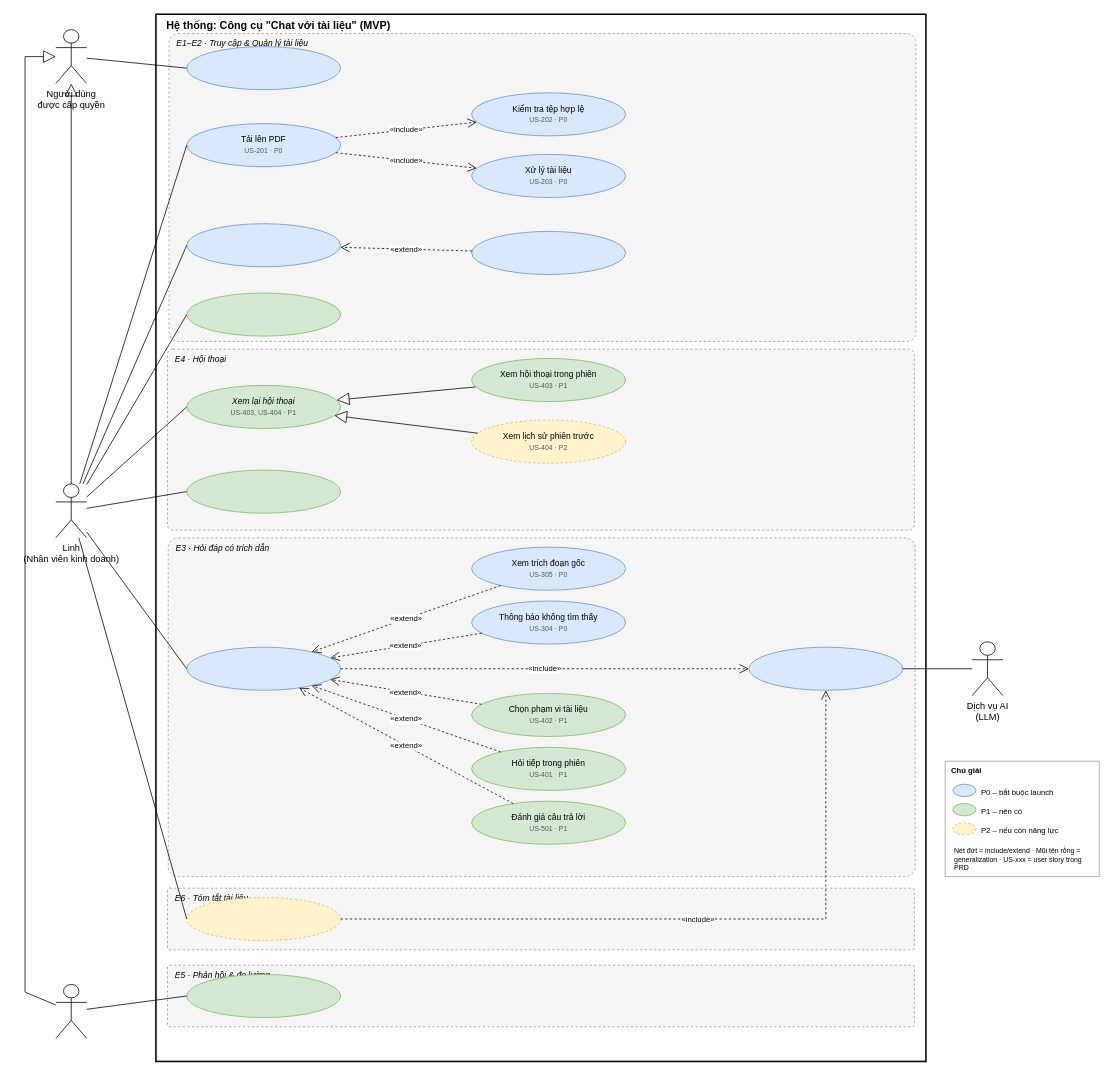
This 1113x1079 diagram has some shape labels left out. The centre of each missing label's shape, as x and y in pixels:
Bắt đầu hội thoại mới US-403 · P1: pixel 263 491
Hùng (Quản lý dự án): pixel 71 1011
Thử lại xử lý lỗi AC-203.3 · P0: pixel 548 253
Tóm tắt tài liệu US-601 · P2: pixel 263 919
Tạo câu trả lời kèm trích dẫn US-302, US-303, US-305 · P0: pixel 825 668
Xem danh sách & trạng thái US-203, US-204 · P0: pixel 263 245
Xem số liệu sử dụng US-502 · P1: pixel 263 996
Xóa tài liệu US-205 · P1: pixel 263 314
Đăng nhập US-101 · P0: pixel 263 68
Đặt câu hỏi US-301 · P0: pixel 263 668
